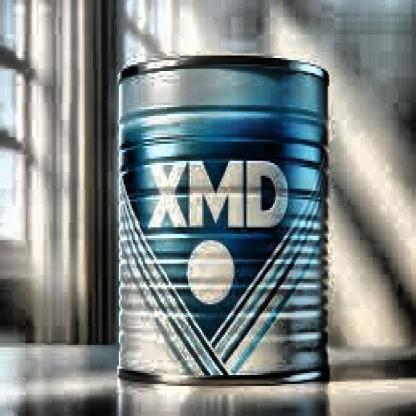Can: (113, 48, 335, 390)
